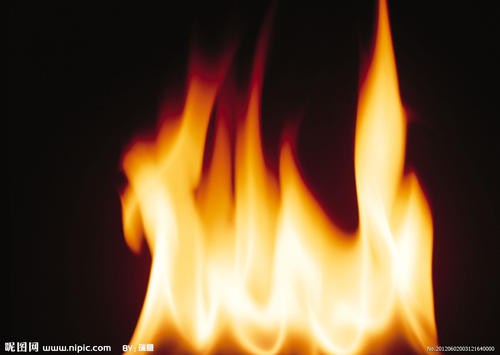fire: (120, 1, 435, 355)
